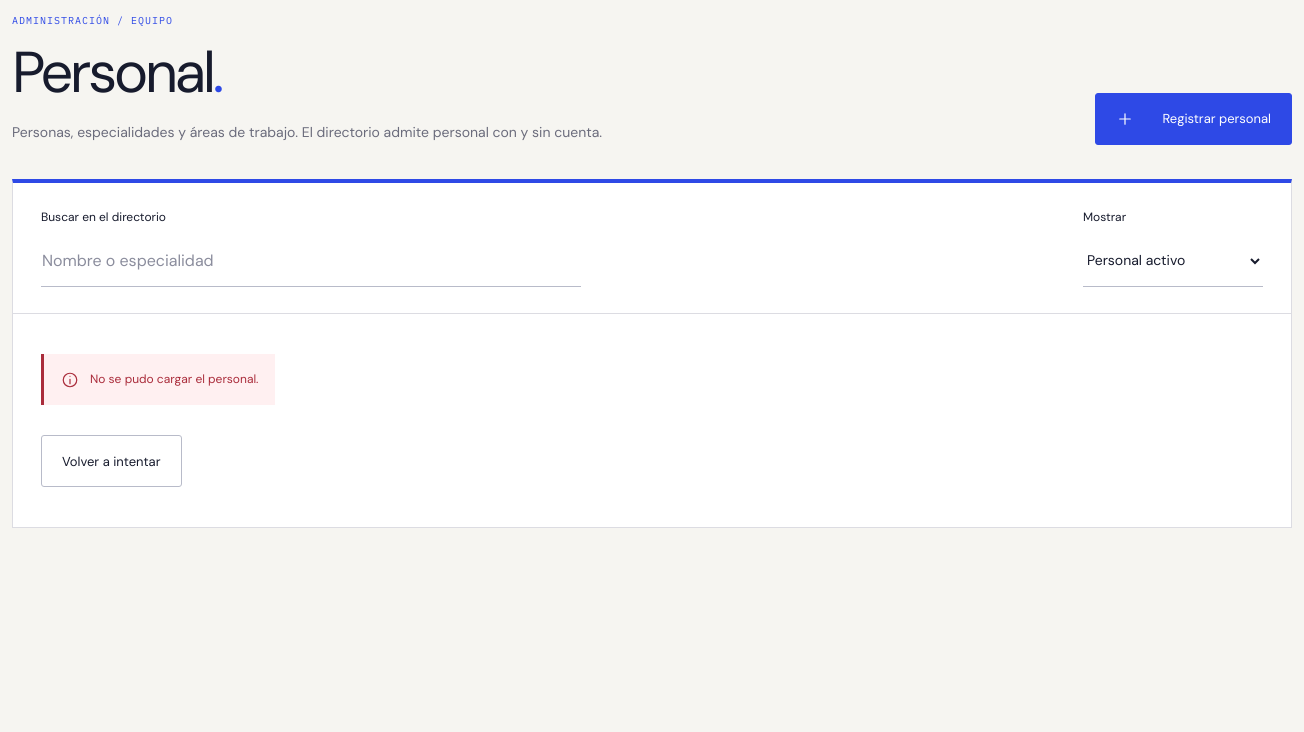
Test: W07 · personal de salud › muestra los estados cargando, vacío y error
Expected: the text "Cargando" is shown, [41,354,276,487]
Expected: the text "No se pudo cargar el personal." is shown, [90,369,258,390]
Click the button "Volver a intentar". click: [111, 461]
box: [41,435,182,487]
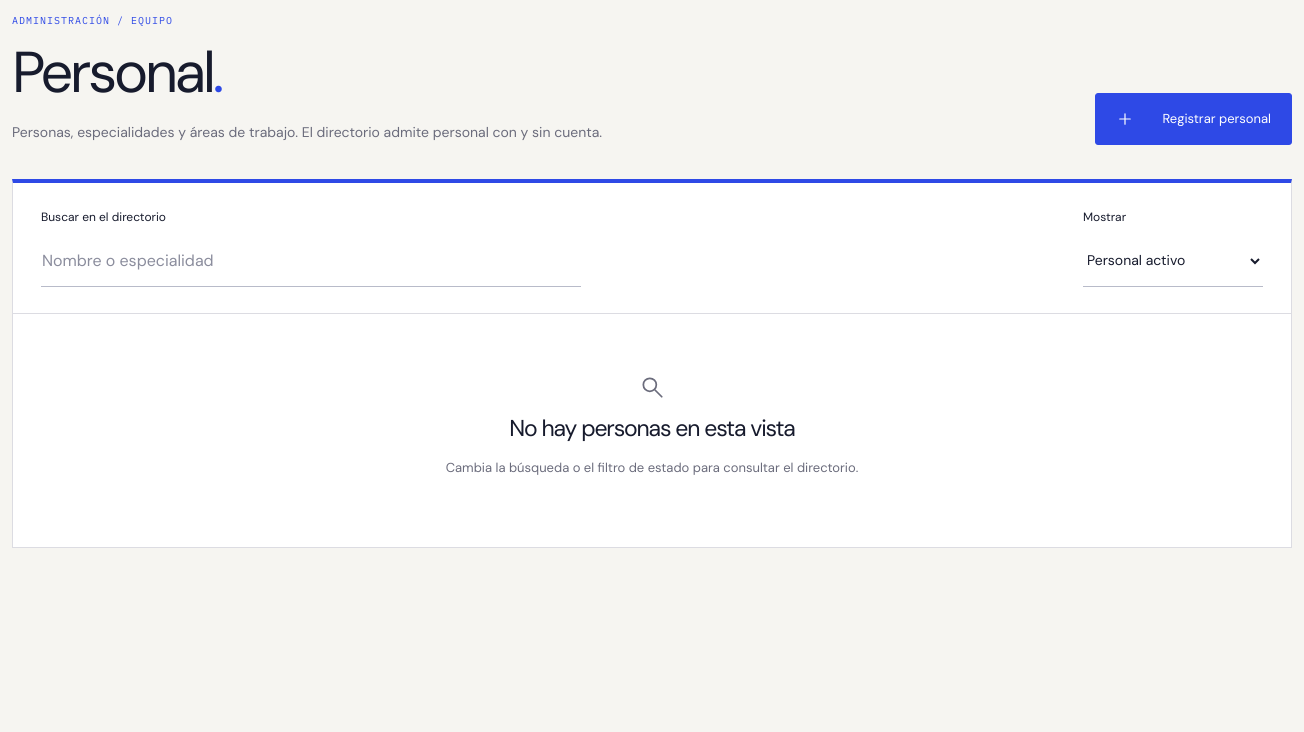
Expected: the heading "No hay personas en esta vista" is shown, [509,413,795,443]
